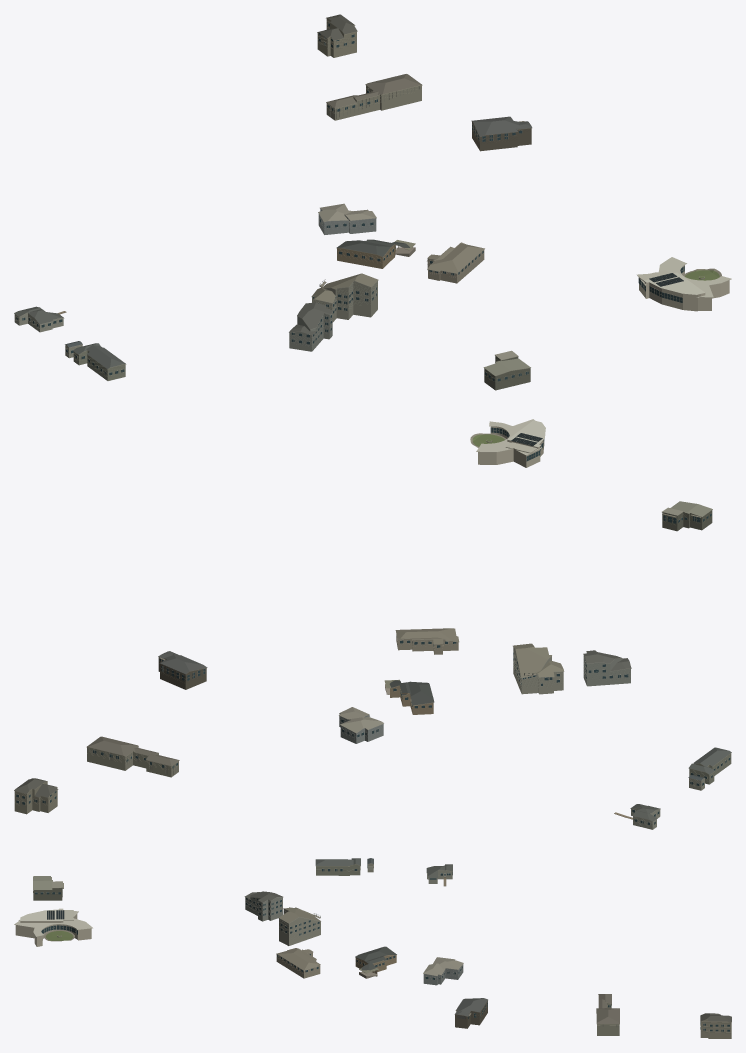
The model's file is site.glb.
The picture shows the model from 3 angles, top to bottom: view 1: azimuth 30°, elevation 25°; view 2: azimuth 150°, elevation 25°; view 3: azimuth 270°, elevation 25°; orthographic projection. The views are drawn at different scales.
Parts seen in each view (by area): view 1: roof-e32e043f, roof-b557cead, roof-7de174b3, roof-8f0efef2, roof-68dd5b6a, roof-5c1f7c13, roof-d984bae7, roof-de5fad40, roof-732f34cd, roof-0fd33e45, roof-adc35a27, roof-bb7cc41d; view 2: roof-e32e043f, roof-b557cead, roof-7de174b3, roof-68dd5b6a, roof-5c1f7c13, roof-8f0efef2, roof-732f34cd, roof-de5fad40, roof-0fd33e45, roof-d984bae7, roof-adc35a27; view 3: roof-e32e043f, roof-7de174b3, roof-68dd5b6a, roof-5c1f7c13, roof-b557cead, roof-de5fad40, roof-8f0efef2, roof-d984bae7, roof-732f34cd, roof-adc35a27, roof-0fd33e45, fairmount-sunset-hillside-paving (+1 smaller).
Part boxes in pixels (bbox=[...]): roof-e32e043f: bbox=[637, 257, 731, 311]; roof-b557cead: bbox=[326, 74, 422, 120]; roof-7de174b3: bbox=[311, 273, 378, 322]; roof-8f0efef2: bbox=[471, 116, 532, 151]; roof-68dd5b6a: bbox=[289, 302, 333, 351]; roof-5c1f7c13: bbox=[427, 242, 484, 283]; roof-d984bae7: bbox=[336, 239, 415, 268]; roof-de5fad40: bbox=[318, 203, 376, 234]; roof-732f34cd: bbox=[317, 14, 357, 57]; roof-0fd33e45: bbox=[483, 350, 530, 390]; roof-adc35a27: bbox=[73, 343, 126, 380]; roof-bb7cc41d: bbox=[14, 306, 64, 332]; roof-e32e043f: bbox=[476, 419, 545, 467]; roof-b557cead: bbox=[86, 736, 179, 777]; roof-7de174b3: bbox=[513, 643, 564, 694]; roof-68dd5b6a: bbox=[583, 650, 631, 686]; roof-5c1f7c13: bbox=[395, 628, 459, 654]; roof-8f0efef2: bbox=[158, 651, 207, 689]; roof-732f34cd: bbox=[14, 778, 58, 814]; roof-de5fad40: bbox=[339, 707, 383, 743]; roof-0fd33e45: bbox=[662, 501, 712, 531]; roof-d984bae7: bbox=[384, 679, 434, 714]; roof-adc35a27: bbox=[688, 747, 731, 784]; roof-e32e043f: bbox=[14, 908, 92, 946]; roof-7de174b3: bbox=[278, 907, 320, 945]; roof-68dd5b6a: bbox=[244, 891, 283, 921]; roof-5c1f7c13: bbox=[276, 948, 320, 978]; roof-b557cead: bbox=[596, 994, 619, 1035]; roof-de5fad40: bbox=[423, 957, 463, 985]; roof-8f0efef2: bbox=[454, 998, 487, 1028]; roof-d984bae7: bbox=[355, 946, 396, 976]; roof-732f34cd: bbox=[700, 1013, 731, 1038]; roof-adc35a27: bbox=[315, 858, 360, 875]; roof-0fd33e45: bbox=[33, 876, 63, 900]; fairmount-sunset-hillside-paving: bbox=[44, 877, 446, 978].
Bounding box in the file's own units: 243 × 60.17 × 375.
